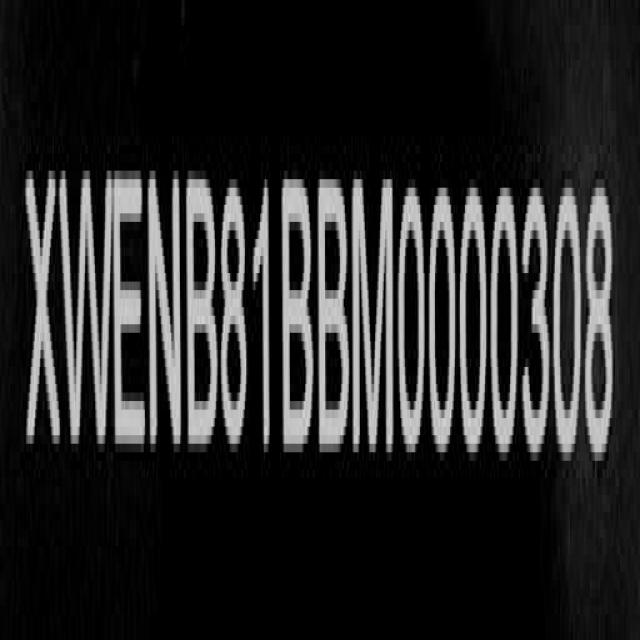0: (396, 167, 427, 466), (487, 184, 520, 453), (459, 181, 488, 453), (552, 177, 580, 453), (428, 184, 457, 449)
1: (250, 160, 274, 462)
3: (522, 180, 552, 449)
8: (218, 170, 251, 453), (582, 170, 614, 453)
B: (181, 170, 219, 466), (279, 174, 315, 453), (320, 177, 351, 453)
E: (112, 160, 147, 470)
M: (351, 157, 396, 453)
N: (147, 153, 184, 466)
W: (59, 160, 115, 453)
X: (24, 157, 62, 453)
